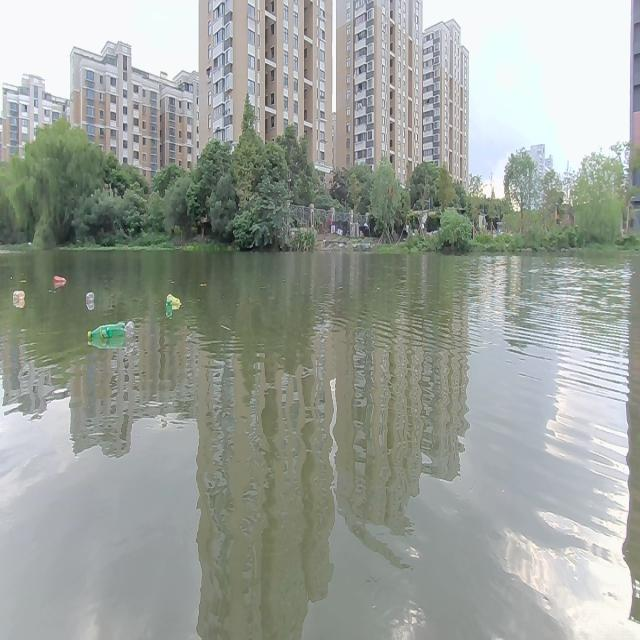bottle: (85, 324, 127, 343), (123, 321, 137, 347), (166, 292, 182, 311), (11, 289, 25, 304), (52, 273, 68, 286), (163, 298, 174, 316), (86, 288, 96, 303)
